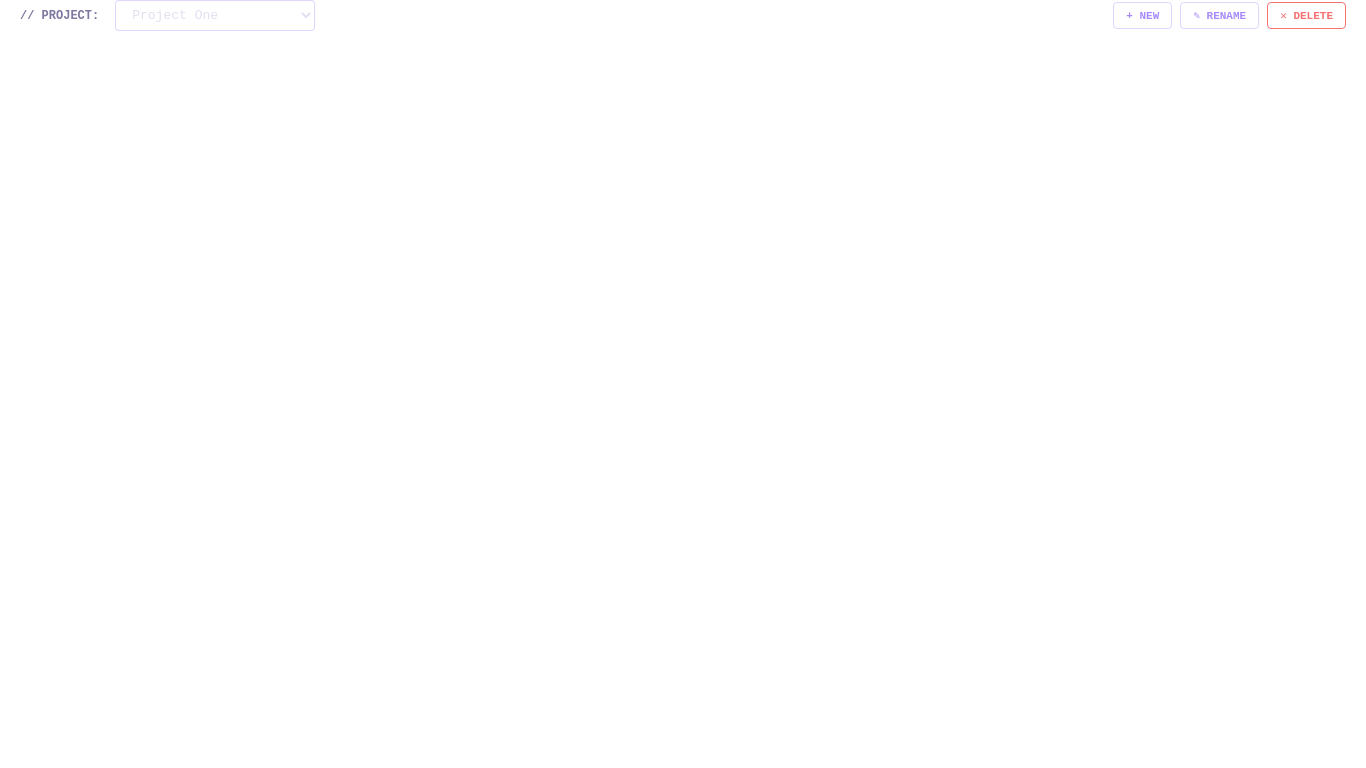
Test: ProjectPicker › opens rename modal when clicking RENAME button
Click the button "✎ RENAME" at (1220, 16), box [1180, 2, 1259, 29]
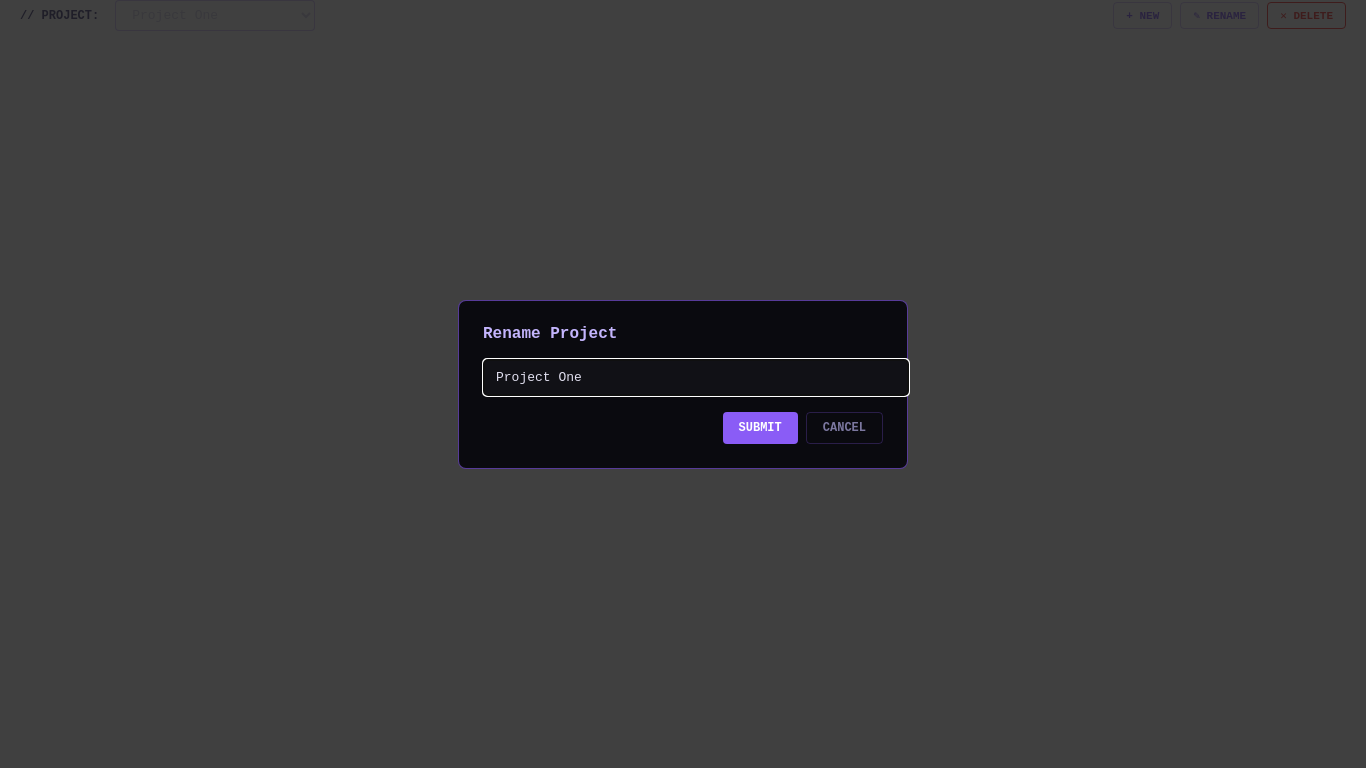
Now the heading "Rename Project" is shown, box [483, 324, 617, 342]
Now the field with placeholder "Enter new name..." holds "Project One", box [483, 358, 909, 396]
